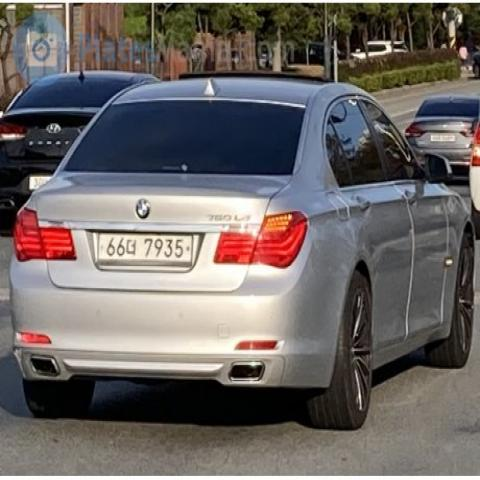LP: (92, 226, 204, 270)
